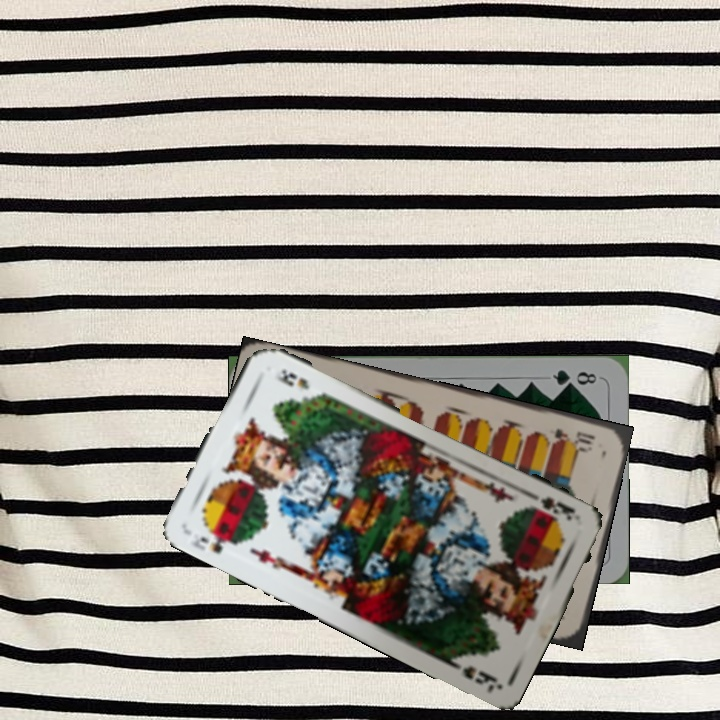E10: (550, 424, 598, 452)
G8: (548, 365, 599, 389)
SK: (189, 522, 240, 556), (526, 493, 578, 523)
